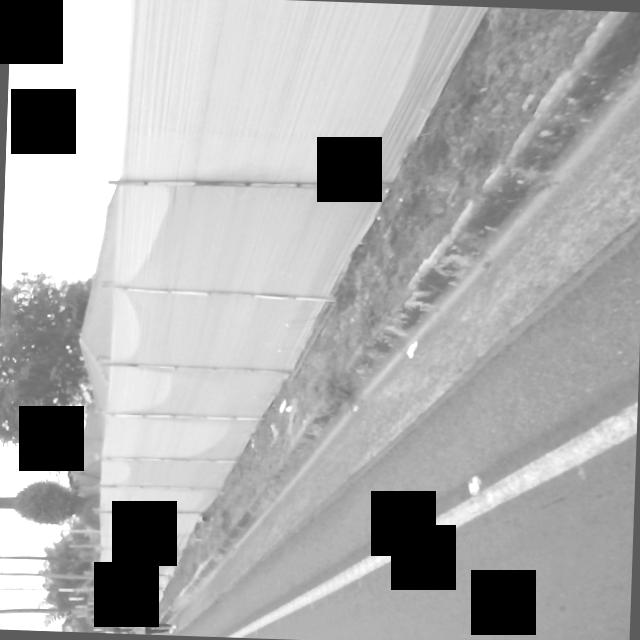DITCH: (42, 0, 640, 640), (85, 0, 640, 640), (151, 0, 640, 640)
